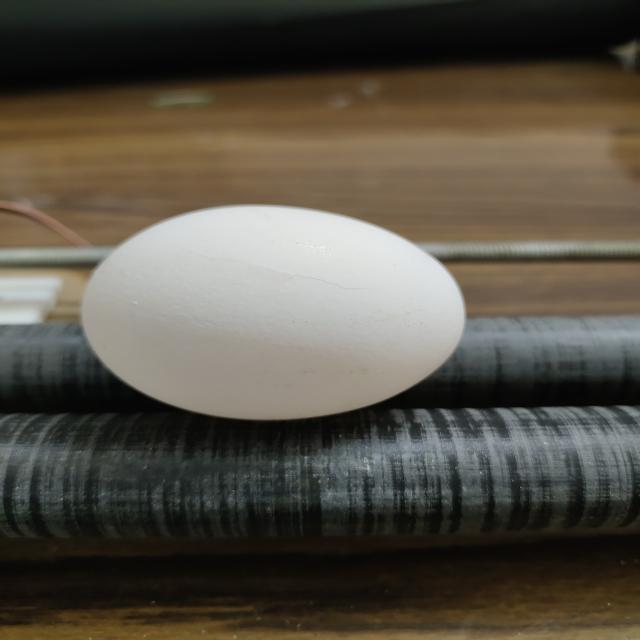Eggs: (82, 203, 467, 420)
